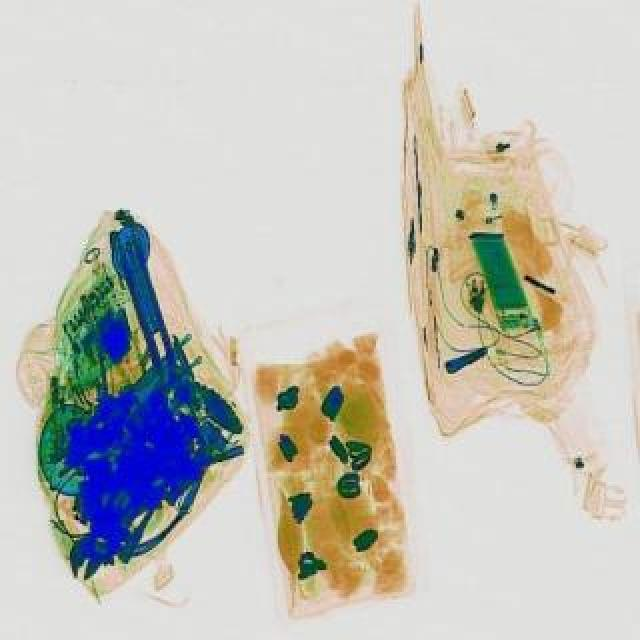scissors: (60, 462, 152, 586)
